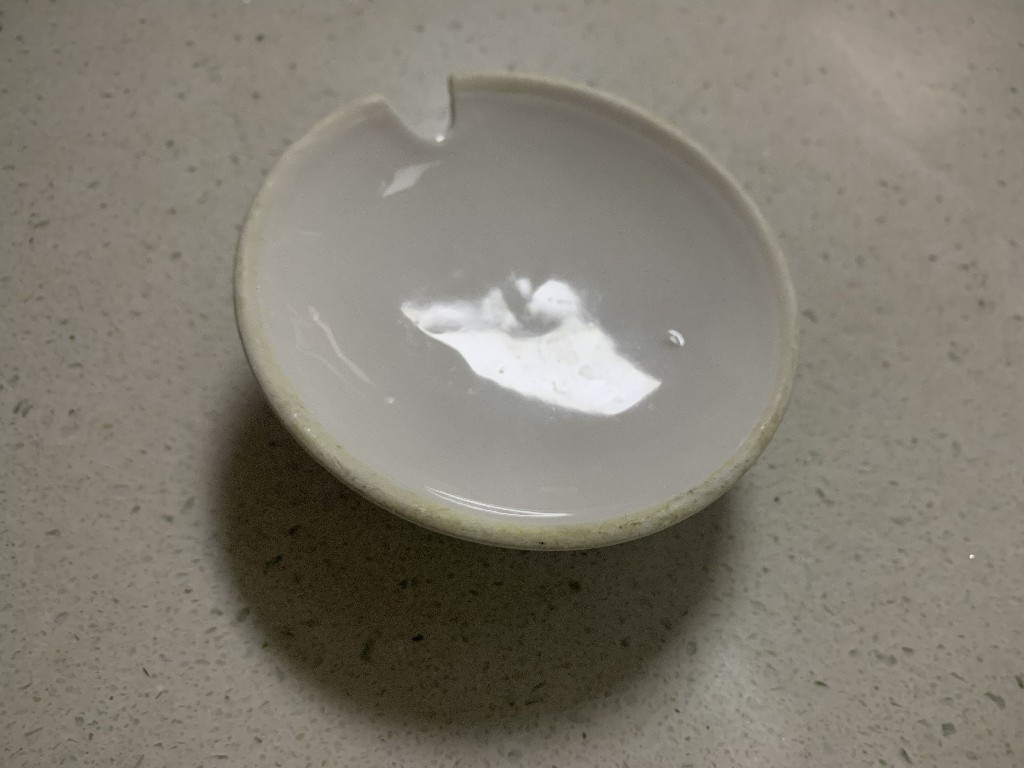ceramics: (225, 61, 809, 559)
